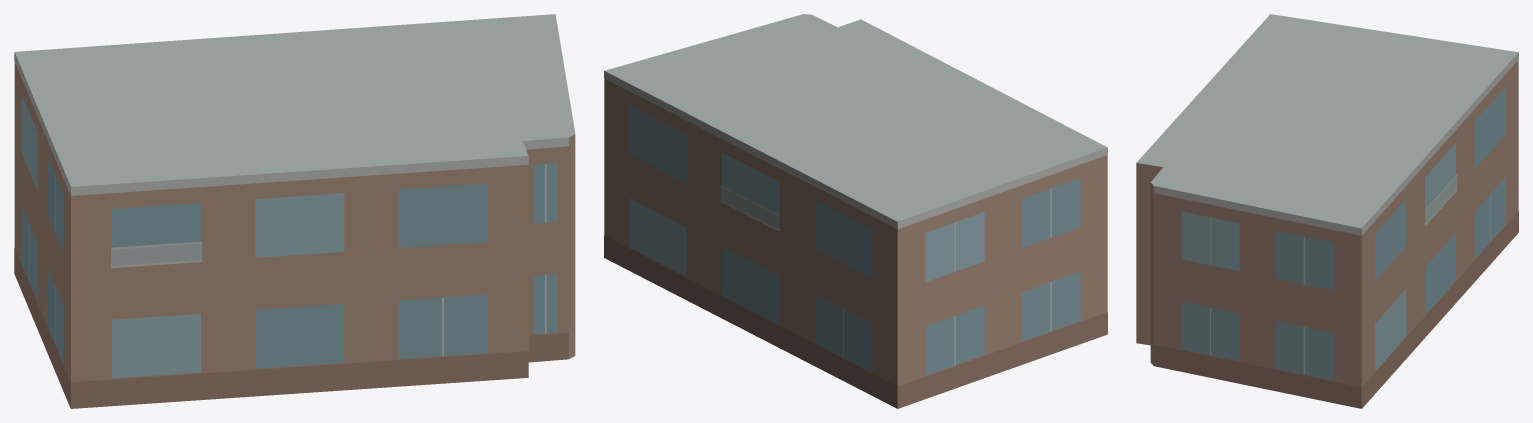
File: survey-upis-32666304.glb
3 renders of one model, left to right at view 1: azimuth 30°, elevation 25°; view 2: azimuth 150°, elevation 25°; view 3: azimuth 270°, elevation 25°, orthographic. The views are drawn at different scales.
Parts seen in each view (by area): view 1: survey-upis-32666304.tmp; view 2: survey-upis-32666304.tmp; view 3: survey-upis-32666304.tmp.
Part boxes in pixels (left/top/right/bottom): survey-upis-32666304.tmp: left=14, top=14, right=575, bottom=408; survey-upis-32666304.tmp: left=604, top=14, right=1107, bottom=408; survey-upis-32666304.tmp: left=1136, top=14, right=1518, bottom=408.
Bounding box in the file's own units: 15.58 × 6.1 × 11.74.
